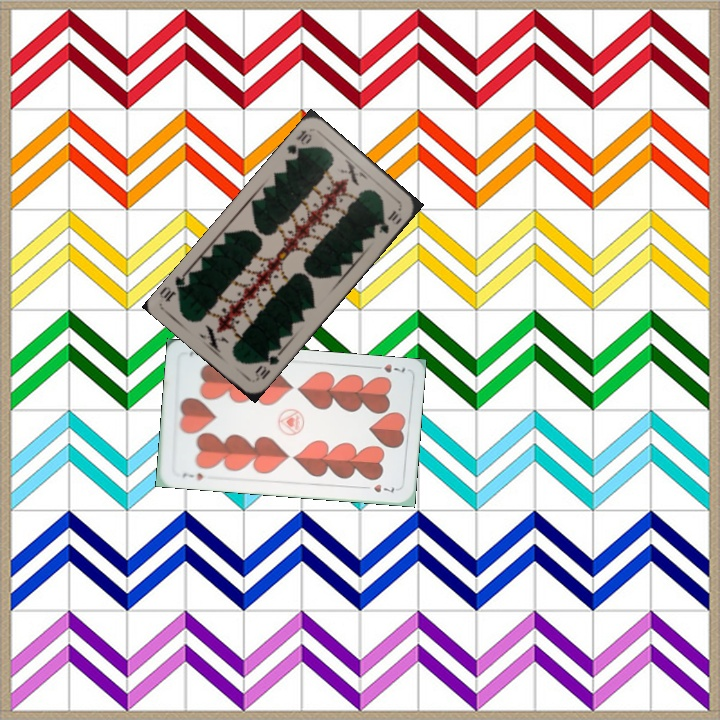G10: (251, 349, 283, 383), (282, 126, 315, 158)
H7: (369, 360, 408, 375), (178, 468, 206, 483)
